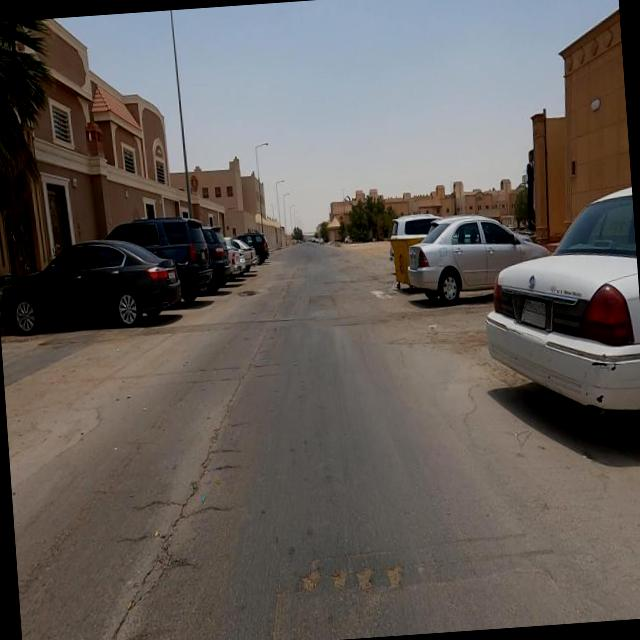debris: (402, 286, 464, 378)
